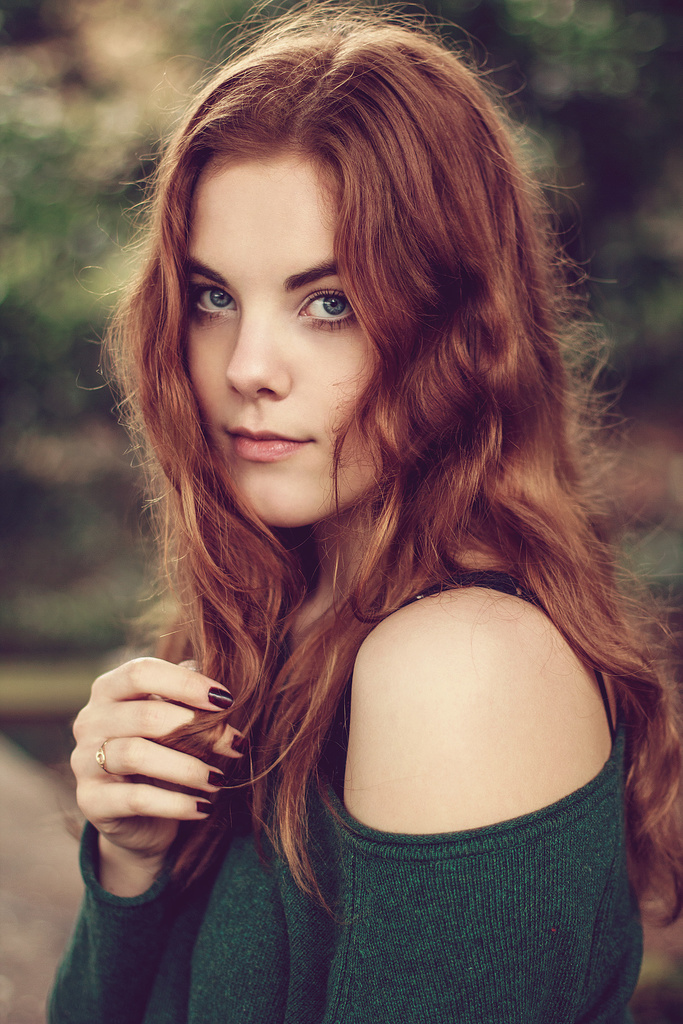Human_hand: (69, 657, 249, 858)
